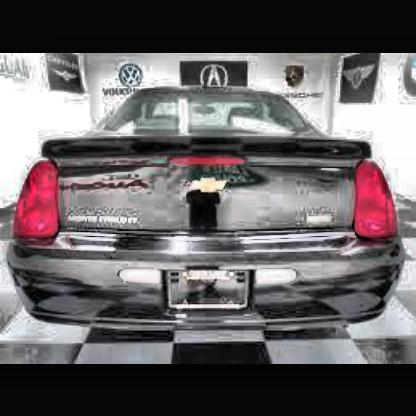Chevrolet Monte Carlo Coupe 2007: (6, 88, 407, 330)
